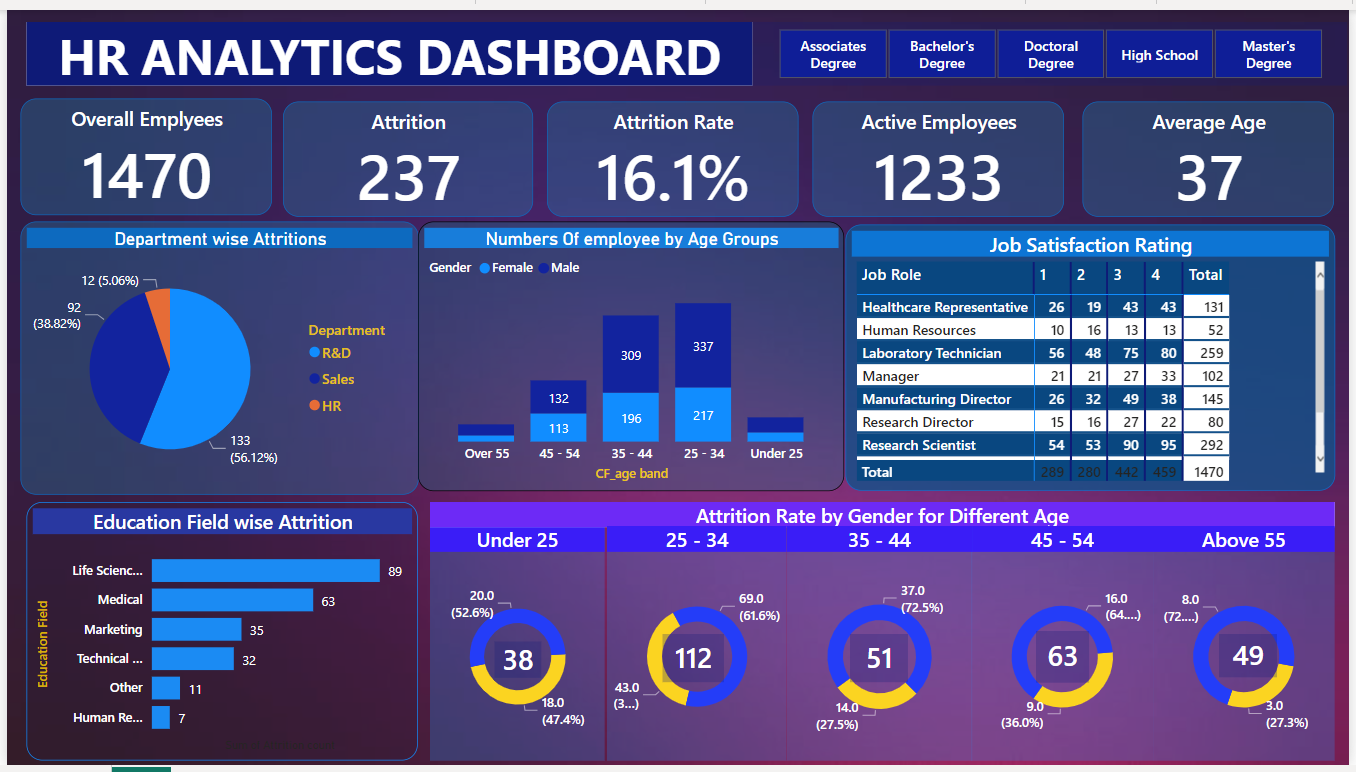

What the dashboard file says about the page in this screenshot:
{"tool":"powerbi","page":{"name":"Page 1","canvas":[1280,720],"ordinal":0},"visuals":[{"type":"card","title":"Overall Emplyees","fields":{"Values":["Sum(HR data.Employee Count)"]},"box":[12.7,84.2,240,111.3],"z":0},{"type":"card","title":"Attrition","fields":{"Values":["Sum(HR data.Attrition count)"]},"box":[263.8,87.4,238.4,109.7],"z":1000},{"type":"card","title":"Attrition Rate","fields":{"Values":["HR data.Attritions rate"]},"box":[515,87.4,240,109.7],"z":2000},{"type":"card","title":"Active Employees ","fields":{"Values":["HR data.Acctive employees"]},"box":[769.3,87.4,240,109.7],"z":3000},{"type":"card","title":"Average Age","fields":{"Values":["Avg(HR data.Age)"]},"box":[1026.8,87.4,240,109.7],"z":4000},{"type":"pieChart","title":"Department wise Attritions","fields":{"Category":["HR data.Department"],"Y":["Sum(HR data.Attrition count)"]},"box":[12.7,201.9,379.9,260.7],"z":5000},{"type":"columnChart","title":"Numbers Of employee by Age Groups","fields":{"Category":["HR data.CF_age band"],"Y":["Sum(HR data.Employee Count)"],"Series":["HR data.Gender"]},"box":[392.6,201.9,406.9,257.5],"z":6000},{"type":"pivotTable","title":"Job Satisfaction Rating","fields":{"Rows":["HR data.Job Role"],"Columns":["HR data.Job Satisfaction"],"Values":["Sum(HR data.Employee Count)"]},"box":[799.5,205,467.3,254.3],"z":7000},{"type":"barChart","title":" Education Field wise Attrition ","fields":{"Category":["HR data.Education Field"],"Y":["Sum(HR data.Attrition count)"]},"box":[19.1,468.9,373.5,246.4],"z":8000},{"type":"donutChart","title":"Under 25","fields":{"Category":["HR data.Gender"],"Y":["Sum(HR data.Attrition count)"],"Series":["HR data.CF_age band"]},"box":[403.7,492.7,166.9,224.1],"z":9000},{"type":"textbox","title":"Attrition Rate by Gender for Different Age ","box":[403.7,468.9,863,23.8],"z":10000},{"type":"donutChart","title":"45 - 54","fields":{"Category":["HR data.Gender"],"Y":["Sum(HR data.Attrition count)"],"Series":["HR data.CF_age band"]},"box":[920.3,492.7,173.2,224.1],"z":11000},{"type":"donutChart","title":"35 - 44","fields":{"Category":["HR data.Gender"],"Y":["Sum(HR data.Attrition count)"],"Series":["HR data.CF_age band"]},"box":[743.8,492.7,176.4,224.1],"z":12000},{"type":"donutChart","title":"25 - 34","fields":{"Category":["HR data.Gender"],"Y":["Sum(HR data.Attrition count)"],"Series":["HR data.CF_age band"]},"box":[572.2,492.7,171.7,224.1],"z":13000},{"type":"donutChart","title":"Above 55","fields":{"Category":["HR data.Gender"],"Y":["Sum(HR data.Attrition count)"],"Series":["HR data.CF_age band"]},"box":[1093.5,492.7,173.2,224.1],"z":14000},{"type":"card","fields":{"Values":["Sum(HR data.Attrition count)"]},"box":[465.7,602.4,44.5,35],"z":15000},{"type":"card","fields":{"Values":["Sum(HR data.Attrition count)"]},"box":[626.2,596,58.8,46.1],"z":16000},{"type":"card","fields":{"Values":["Sum(HR data.Attrition count)"]},"box":[804.2,596,55.6,46.1],"z":17000},{"type":"card","fields":{"Values":["Sum(HR data.Attrition count)"]},"box":[982.3,592.8,50.9,49.3],"z":18000},{"type":"card","fields":{"Values":["Sum(HR data.Attrition count)"]},"box":[1157.1,596,55.6,41.3],"z":19000},{"type":"textbox","title":"HR ANALYTICS DASHBOARD ","box":[19.1,11.1,693,60.4],"z":20000},{"type":"slicer","fields":{"Values":["HR data.Education"]},"box":[712.1,11.1,567.4,60.4],"z":21000}]}

Visuals, with their boxes in screenshot pixels (x1, y1, x2, y2), scaled from the page's 1280x720 canvas onto the 1356x772 screenshot:
"Overall Emplyees" card: locate(13, 90, 268, 210)
"Attrition" card: locate(279, 94, 532, 211)
"Attrition Rate" card: locate(546, 94, 800, 211)
"Active Employees " card: locate(815, 94, 1069, 211)
"Average Age" card: locate(1088, 94, 1342, 211)
"Department wise Attritions" pieChart: locate(13, 216, 416, 496)
"Numbers Of employee by Age Groups" columnChart: locate(416, 216, 847, 493)
"Job Satisfaction Rating" pivotTable: locate(847, 220, 1342, 492)
" Education Field wise Attrition " barChart: locate(20, 503, 416, 767)
"Under 25" donutChart: locate(428, 528, 604, 769)
"Attrition Rate by Gender for Different Age " textbox: locate(428, 503, 1342, 528)
"45 - 54" donutChart: locate(975, 528, 1158, 769)
"35 - 44" donutChart: locate(788, 528, 975, 769)
"25 - 34" donutChart: locate(606, 528, 788, 769)
"Above 55" donutChart: locate(1158, 528, 1342, 769)
card - Sum(HR data.Attrition count): locate(493, 646, 540, 683)
card - Sum(HR data.Attrition count): locate(663, 639, 726, 688)
card - Sum(HR data.Attrition count): locate(852, 639, 911, 688)
card - Sum(HR data.Attrition count): locate(1041, 636, 1095, 688)
card - Sum(HR data.Attrition count): locate(1226, 639, 1285, 683)
"HR ANALYTICS DASHBOARD " textbox: locate(20, 12, 754, 77)
slicer - HR data.Education: locate(754, 12, 1355, 77)
